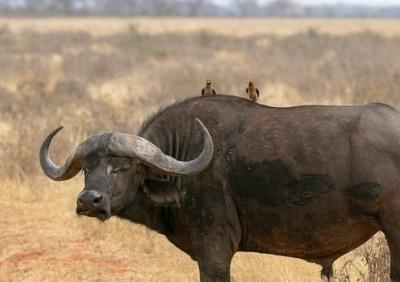buffalo: (39, 93, 399, 281)
